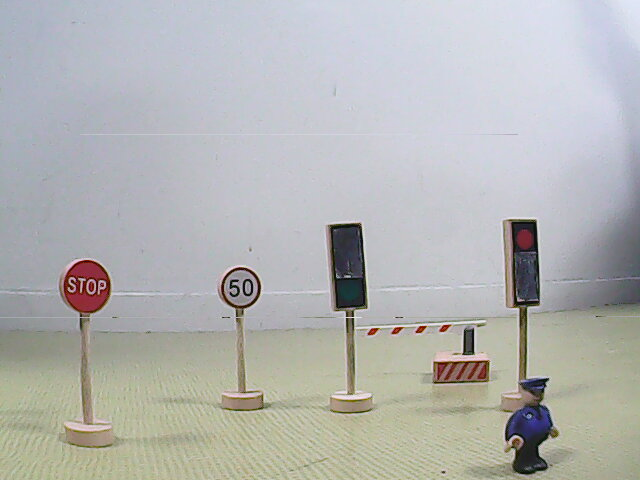barrier: (354, 319, 495, 387)
green_traffic_sign: (327, 223, 368, 312)
person: (502, 375, 563, 475)
red_traffic_sign: (502, 220, 542, 308)
sign_50: (219, 263, 262, 312)
stop_sign: (59, 255, 113, 316)
